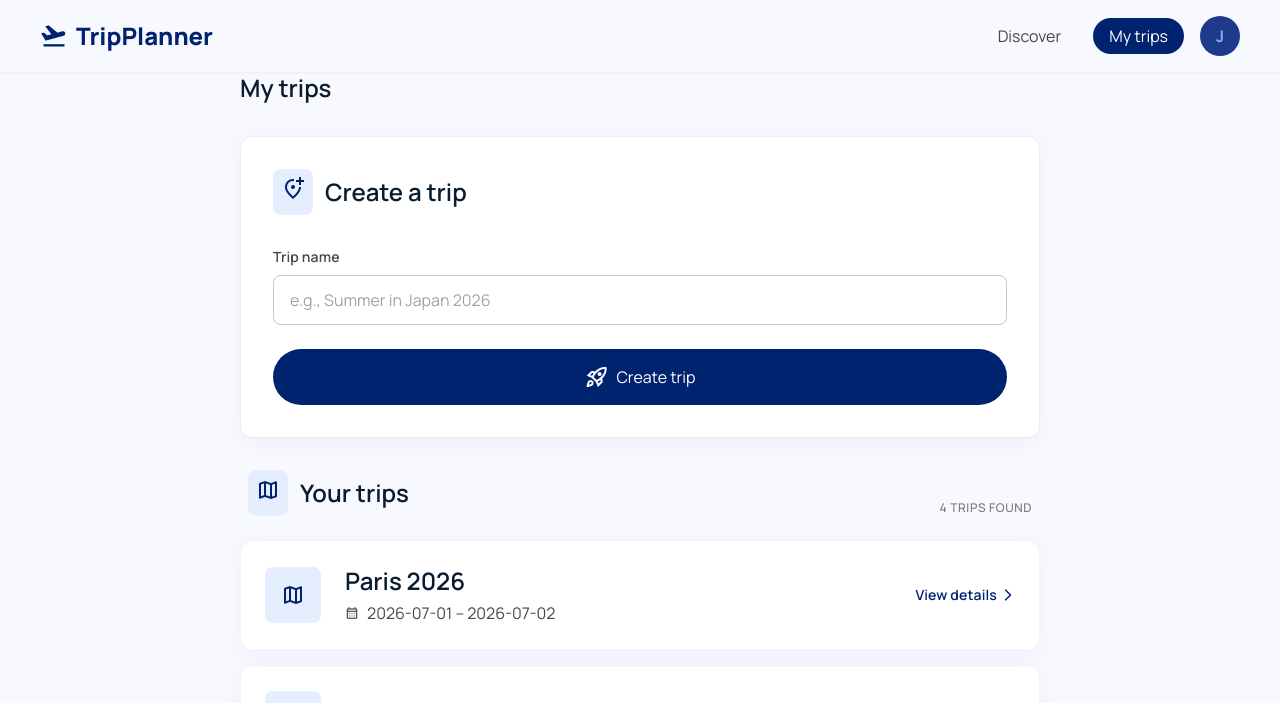
TripsPage › logs out via the header account menu
Expected: the heading "My trips" is shown, [240, 71, 331, 104]
Click the button named "Account menu" at (1220, 36), box [1200, 16, 1240, 56]
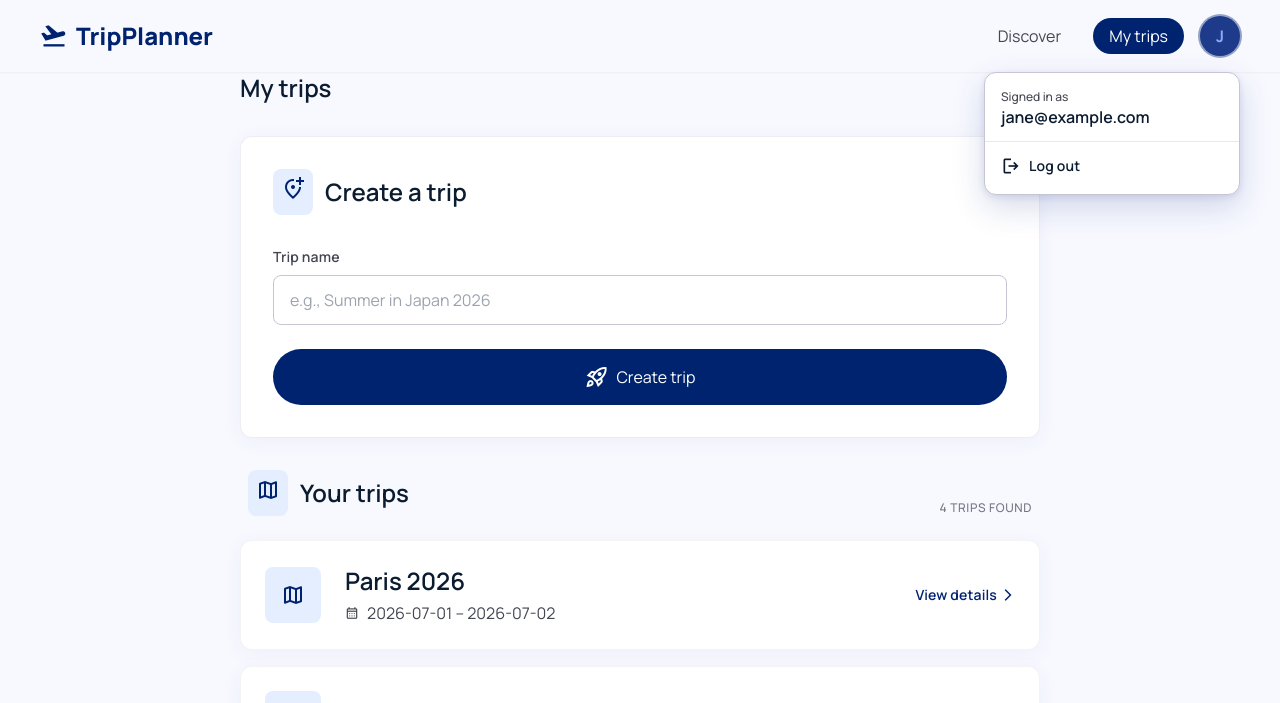
Click the button "Log out" at (1112, 166), box [985, 146, 1239, 186]
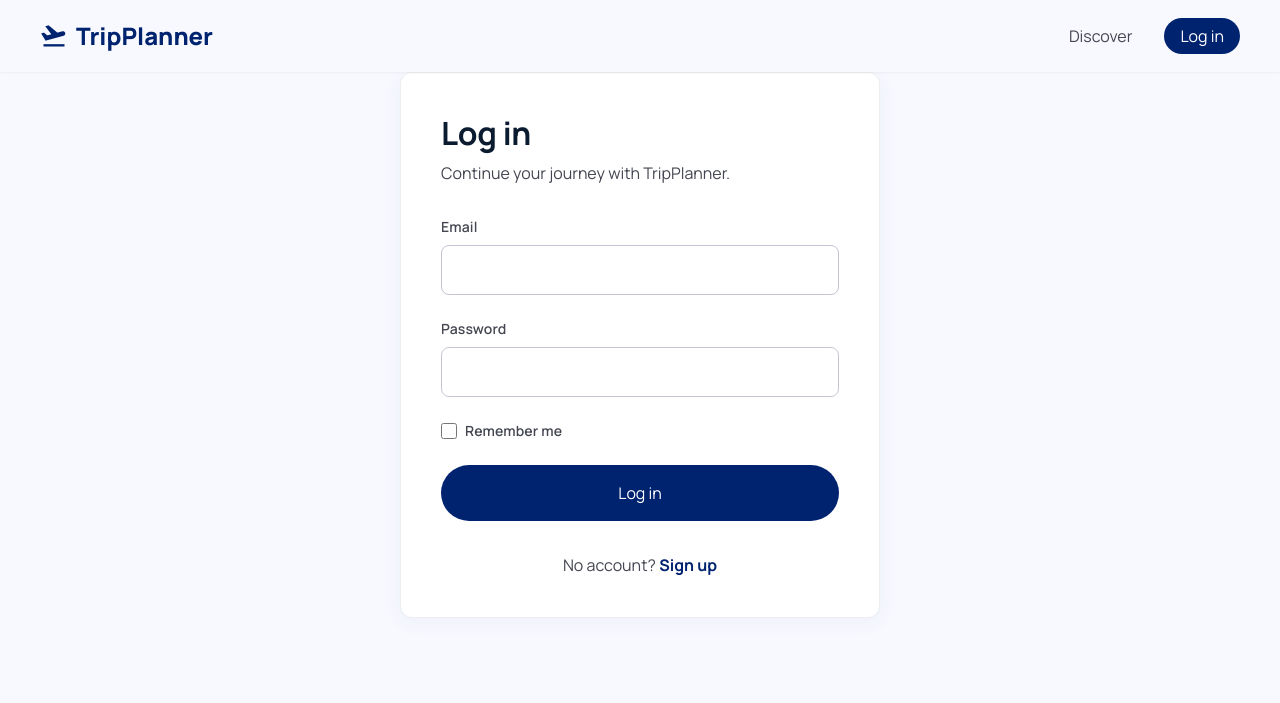
Expected: the heading "Log in" is shown, [441, 111, 531, 155]
